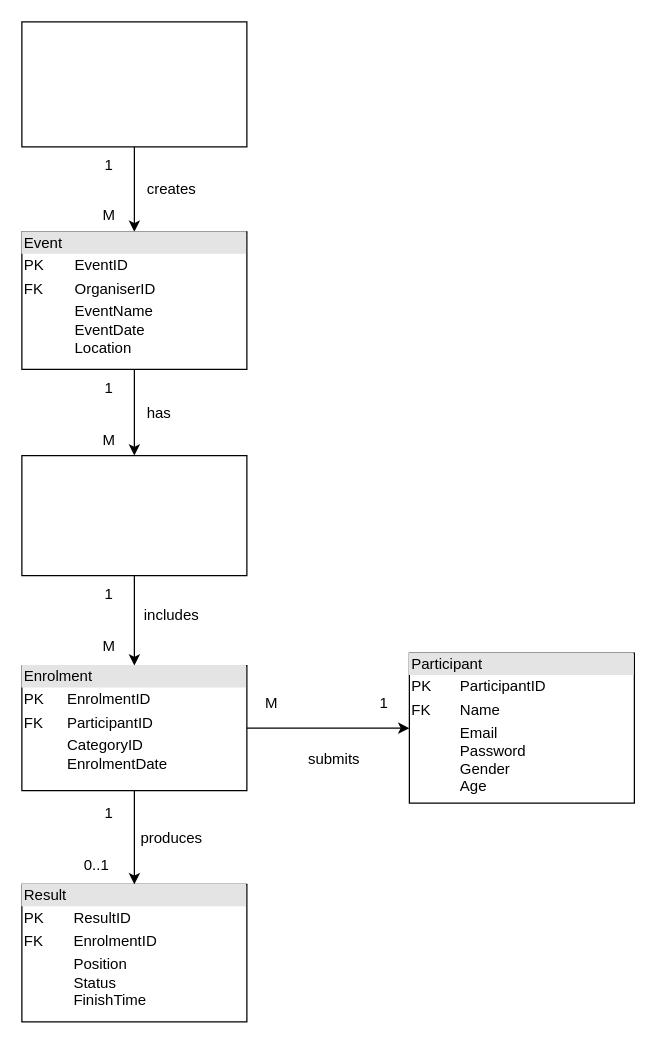
The diagram is 656 pixels wide and 1044 high, and some of its shapes have lost their labels. Each missing label, with the centre of its shape:
"Category PK CategoryID FK EventID CategoryName EntryFee" belongs at (134,515).
"Organiser PK OrganiserID FK Phone Name Password Email" belongs at (134,84).
